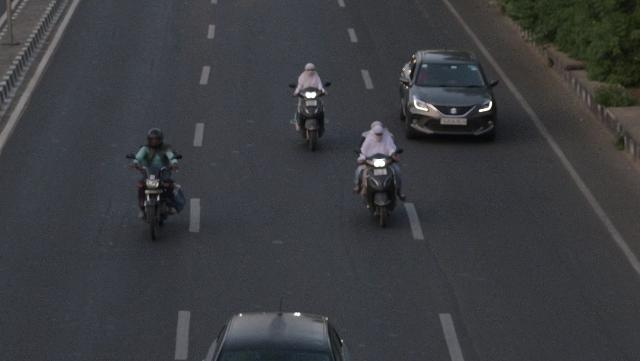With Helmet: (148, 128, 166, 148)
Without Helmet: (371, 124, 385, 142), (305, 61, 317, 77)
